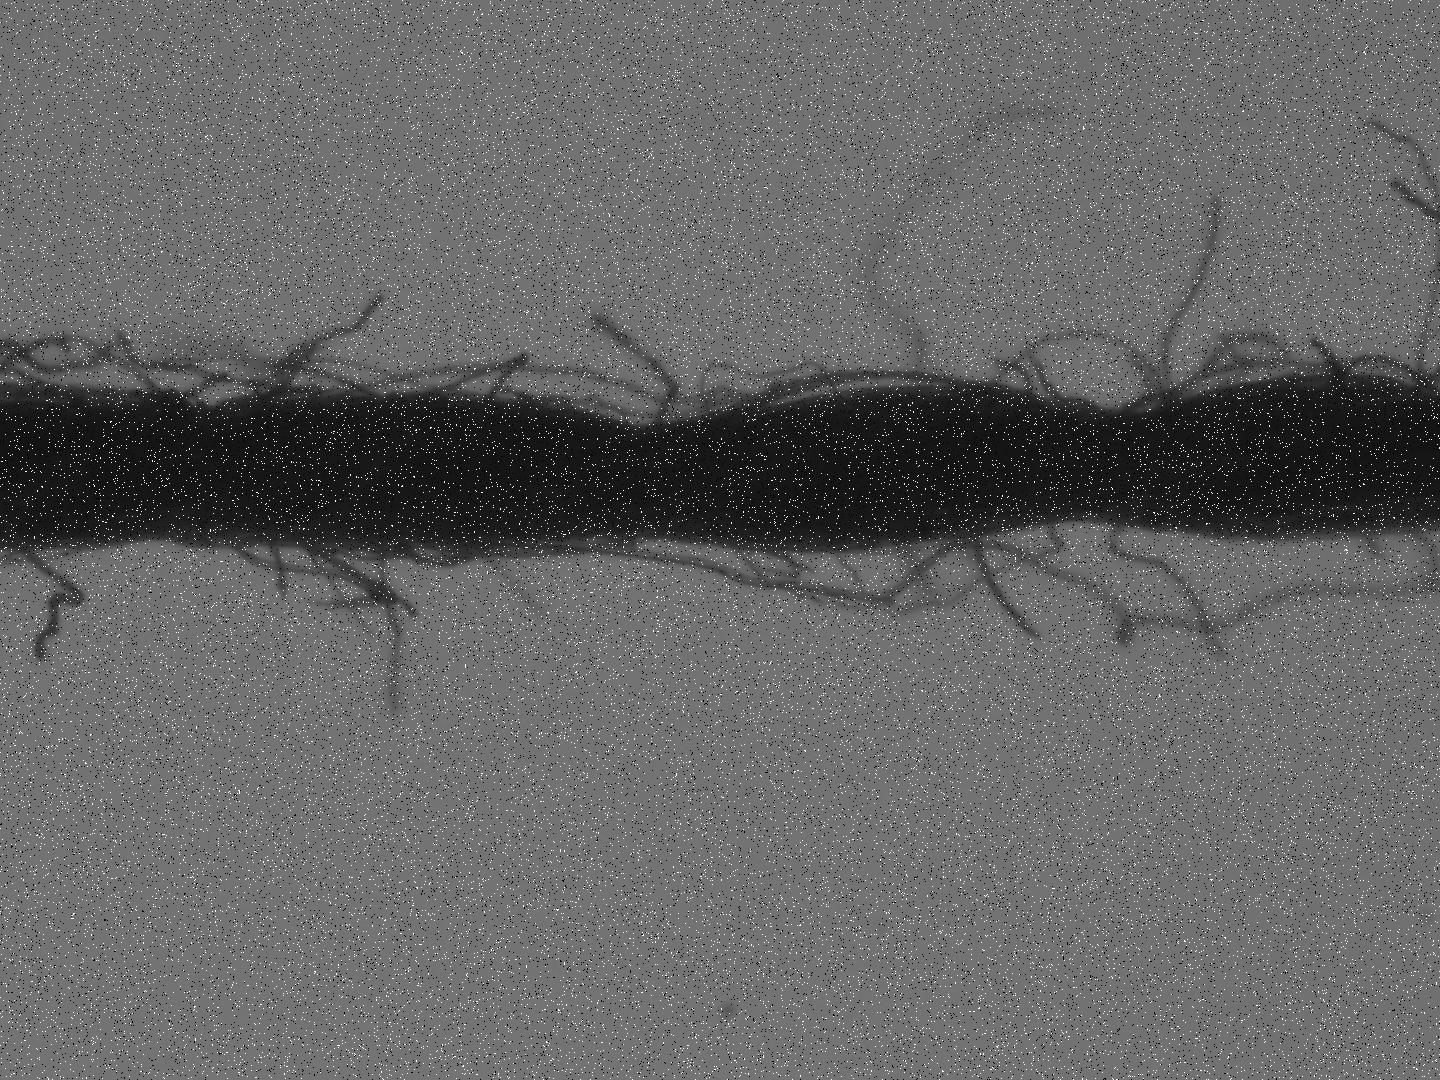loop_fiber: (327, 357, 744, 429), (1129, 336, 1405, 405), (984, 327, 1160, 414), (725, 369, 965, 416), (700, 357, 840, 413), (173, 369, 320, 407), (423, 351, 526, 405), (1329, 353, 1425, 391), (380, 537, 477, 568), (720, 546, 799, 581), (289, 533, 383, 562)
protruding_fiber: (1155, 189, 1223, 398), (590, 307, 676, 423), (966, 525, 1041, 639)
